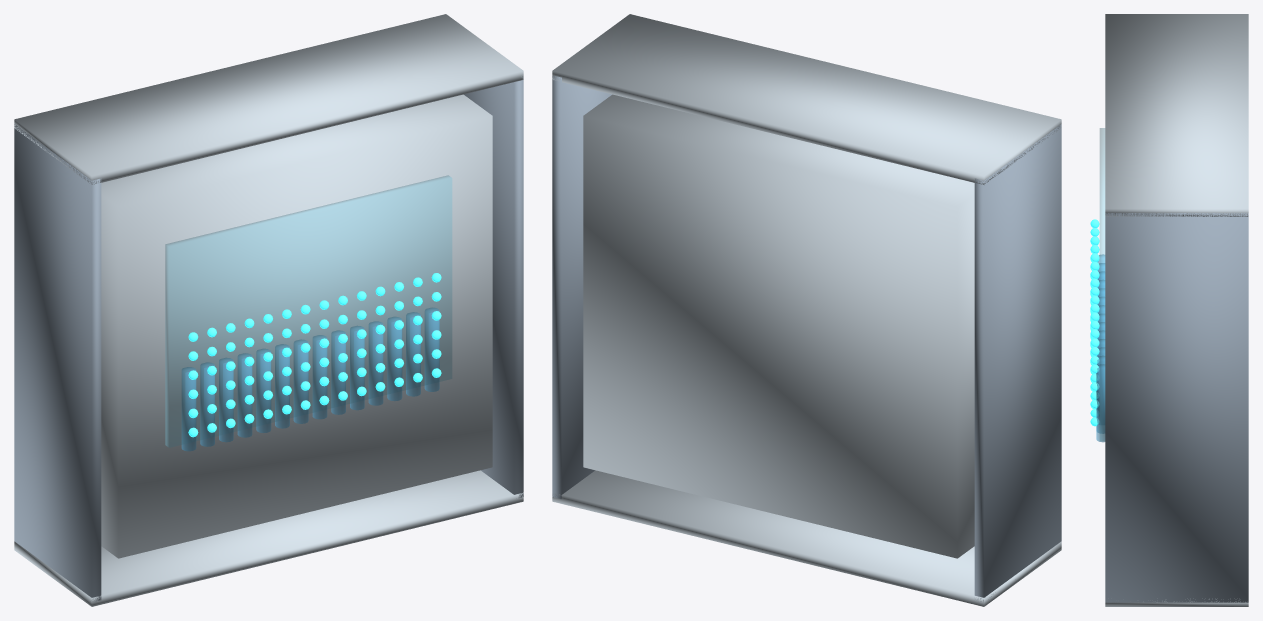
File: 28_L88_O2WaterElectrolysisChamber.glb
The picture shows the model from 3 angles, left to right: view 1: azimuth 30°, elevation 25°; view 2: azimuth 150°, elevation 25°; view 3: azimuth 270°, elevation 25°; orthographic projection. The views are drawn at different scales.
Visible parts, largest first — view 1: L87_O2WaterElectrolysisChambe_Part_0001, L87_O2WaterElectrolysisChambe_Part_0002, L87_O2WaterElectrolysisChambe_Part_0000, L87_O2WaterElectrolysisChambe_Part_0003, L87_O2WaterElectrolysisChambe_Part_0005, L87_O2WaterElectrolysisChambe_Part_0007, L87_O2WaterElectrolysisChambe_Part_0006, L87_O2WaterElectrolysisChambe_Part_0004; view 2: L87_O2WaterElectrolysisChambe_Part_0001, L87_O2WaterElectrolysisChambe_Part_0000; view 3: L87_O2WaterElectrolysisChambe_Part_0000, L87_O2WaterElectrolysisChambe_Part_0001, L87_O2WaterElectrolysisChambe_Part_0002, L87_O2WaterElectrolysisChambe_Part_0003, L87_O2WaterElectrolysisChambe_Part_0007, L87_O2WaterElectrolysisChambe_Part_0006, L87_O2WaterElectrolysisChambe_Part_0008, L87_O2WaterElectrolysisChambe_Part_0005, L87_O2WaterElectrolysisChambe_Part_0004.
Part boxes in pixels (bbox=[...]): L87_O2WaterElectrolysisChambe_Part_0001: bbox=[14, 14, 523, 606]; L87_O2WaterElectrolysisChambe_Part_0002: bbox=[165, 175, 451, 447]; L87_O2WaterElectrolysisChambe_Part_0000: bbox=[14, 75, 523, 601]; L87_O2WaterElectrolysisChambe_Part_0003: bbox=[181, 307, 439, 451]; L87_O2WaterElectrolysisChambe_Part_0005: bbox=[244, 309, 310, 418]; L87_O2WaterElectrolysisChambe_Part_0007: bbox=[375, 277, 441, 391]; L87_O2WaterElectrolysisChambe_Part_0006: bbox=[300, 291, 366, 405]; L87_O2WaterElectrolysisChambe_Part_0004: bbox=[188, 323, 254, 437]; L87_O2WaterElectrolysisChambe_Part_0001: bbox=[552, 14, 1061, 606]; L87_O2WaterElectrolysisChambe_Part_0000: bbox=[552, 75, 1061, 601]; L87_O2WaterElectrolysisChambe_Part_0000: bbox=[1105, 213, 1248, 602]; L87_O2WaterElectrolysisChambe_Part_0001: bbox=[1105, 14, 1248, 606]; L87_O2WaterElectrolysisChambe_Part_0002: bbox=[1100, 128, 1104, 440]; L87_O2WaterElectrolysisChambe_Part_0003: bbox=[1096, 254, 1105, 442]; L87_O2WaterElectrolysisChambe_Part_0007: bbox=[1090, 304, 1099, 426]; L87_O2WaterElectrolysisChambe_Part_0006: bbox=[1090, 270, 1099, 391]; L87_O2WaterElectrolysisChambe_Part_0008: bbox=[1090, 329, 1099, 390]; L87_O2WaterElectrolysisChambe_Part_0005: bbox=[1090, 244, 1099, 365]; L87_O2WaterElectrolysisChambe_Part_0004: bbox=[1090, 219, 1099, 339].
Size of the model in its own units: 4.5 by 4.29 by 1.55.
